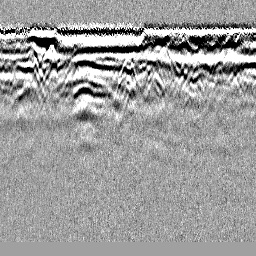cavity: (118, 56, 139, 84)
